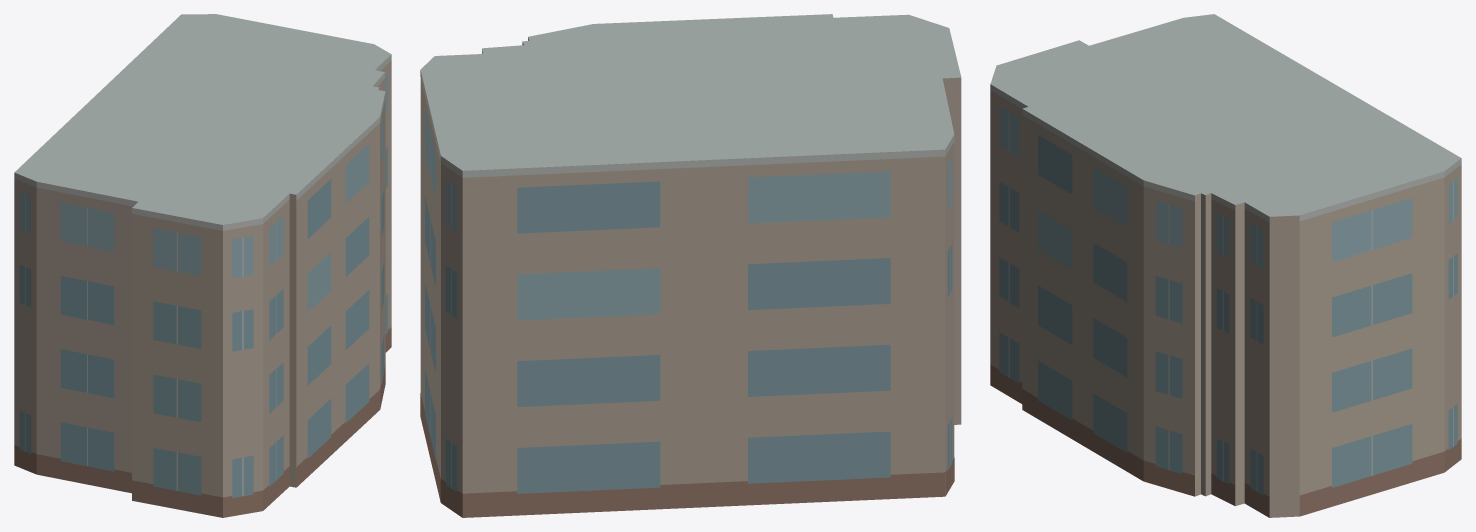
Rendered from survey-upis-32731026.glb.
The picture shows the model from 3 angles, left to right: view 1: azimuth 30°, elevation 25°; view 2: azimuth 150°, elevation 25°; view 3: azimuth 270°, elevation 25°; orthographic projection. The views are drawn at different scales.
Visible parts, largest first — view 1: survey-upis-32731026.tmp; view 2: survey-upis-32731026.tmp; view 3: survey-upis-32731026.tmp.
Boxes of the visible parts, x1,y1,x2,y2 form: survey-upis-32731026.tmp: (14,14,391,517); survey-upis-32731026.tmp: (420,14,961,517); survey-upis-32731026.tmp: (990,14,1461,517).
Size of the model in its own units: 17.63 by 12.2 by 17.31.
